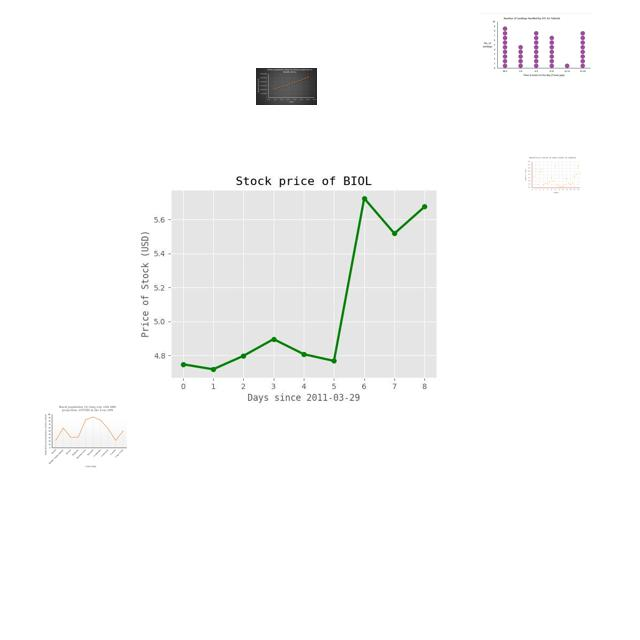Graph: (128, 154, 471, 411), (479, 13, 593, 80), (43, 404, 128, 468), (524, 156, 582, 195), (256, 68, 317, 105)
